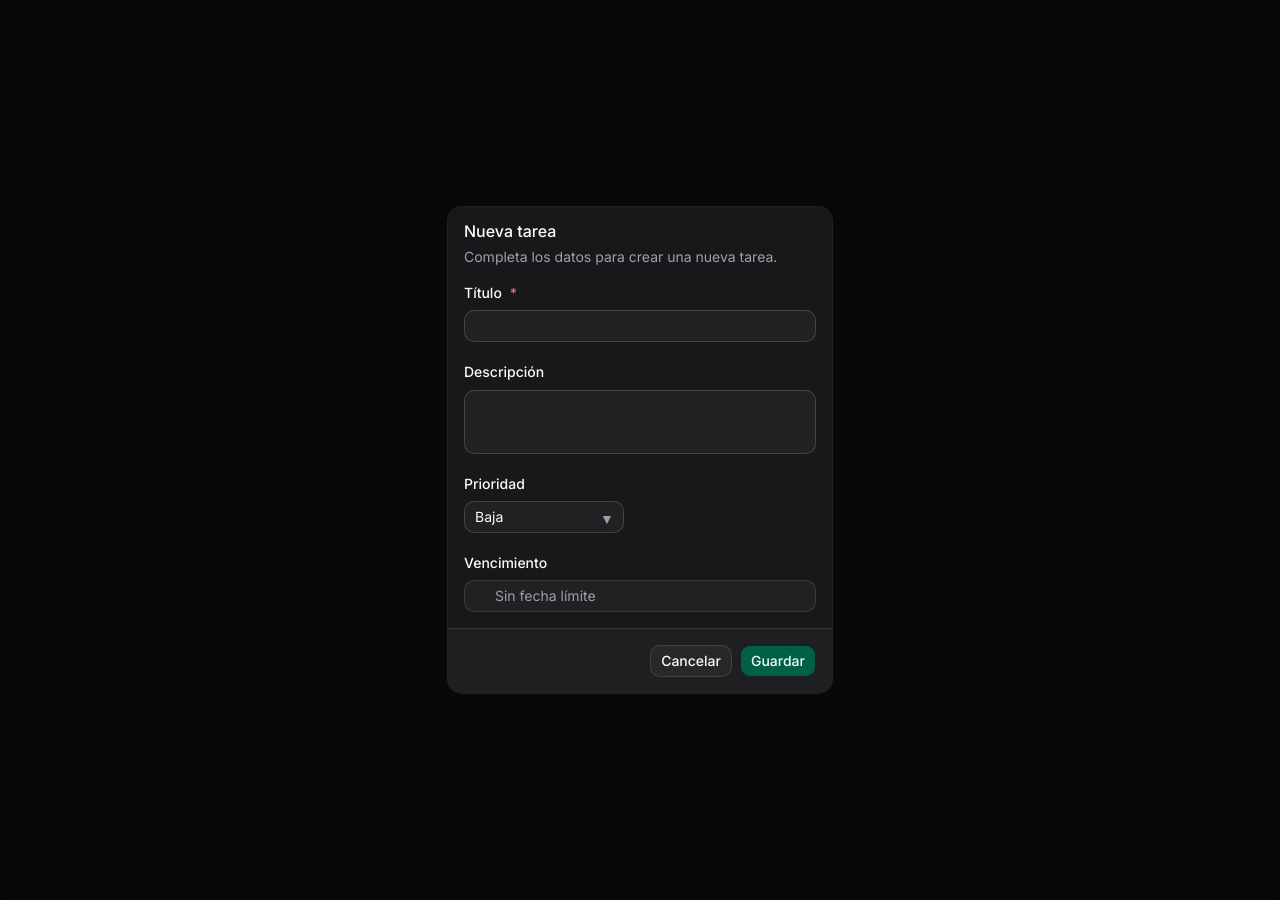
Test case: shared task controls › keeps the task dialog open on failure and preserves the default project
Type "Informe" into the field labelled "Título *" at (640, 326), box x1=464 y1=310 x2=816 y2=342
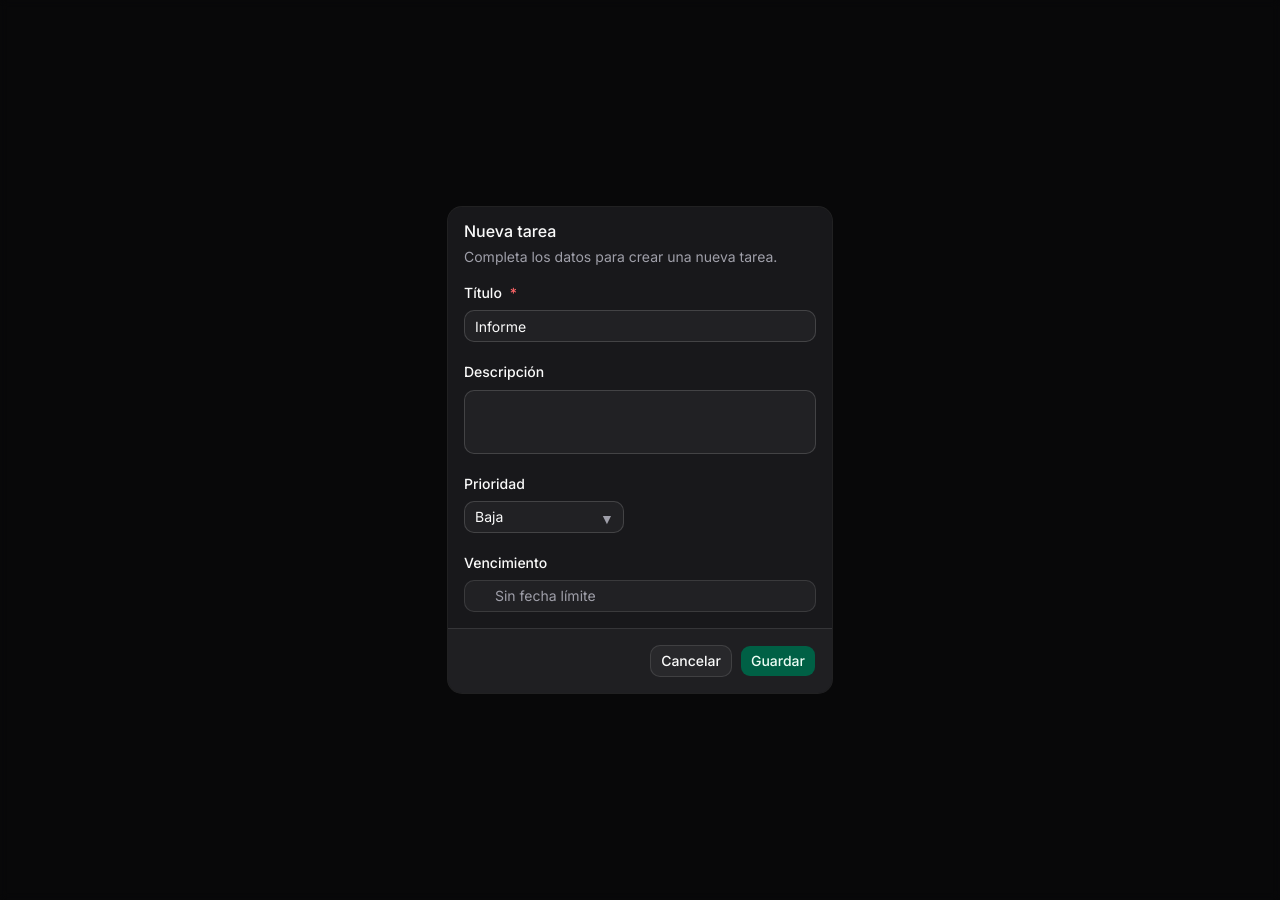
Click the button "Guardar" at (778, 661), box x1=740 y1=645 x2=816 y2=677
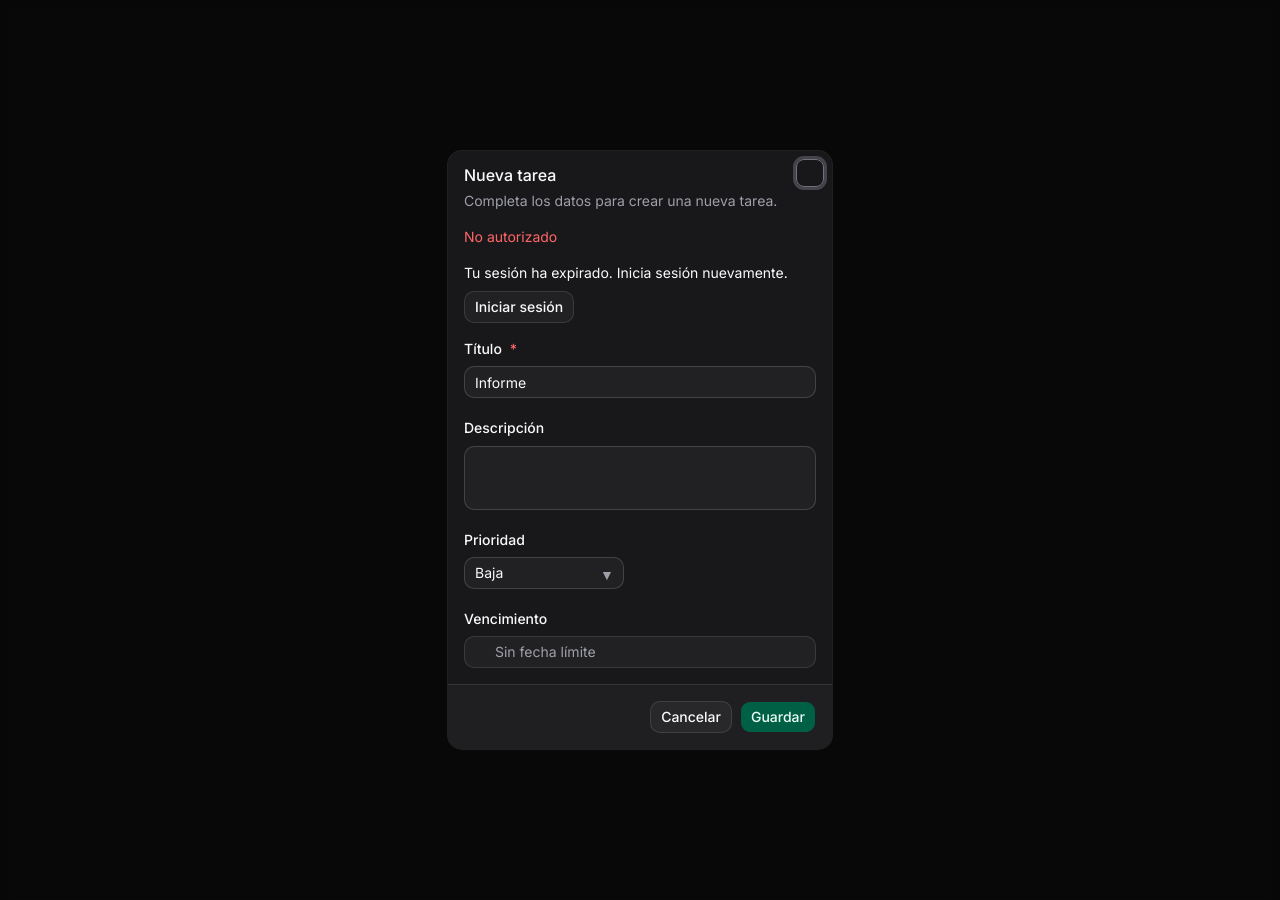
Expected: the message reads "No autorizado", x1=464 y1=228 x2=557 y2=245
Expected: the text "Tu sesión ha expirado. Inicia sesión nuevamente." is shown, x1=464 y1=263 x2=816 y2=283
